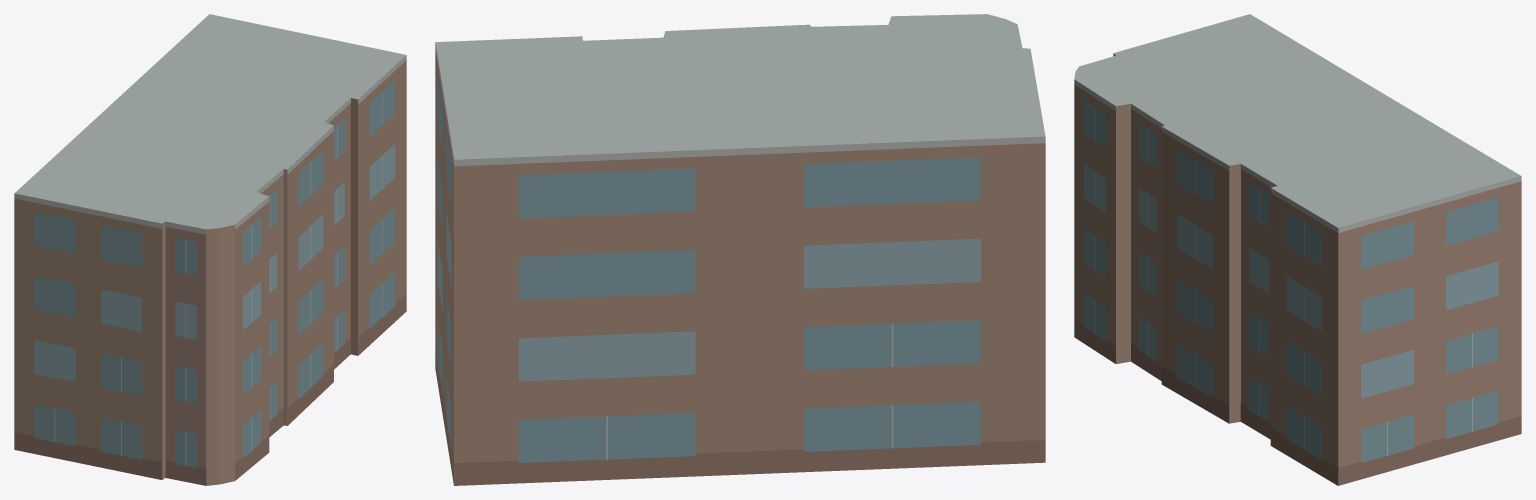
Rendered from survey-upis-33020227.glb.
3 renders of one model, left to right at view 1: azimuth 30°, elevation 25°; view 2: azimuth 150°, elevation 25°; view 3: azimuth 270°, elevation 25°, orthographic. The views are drawn at different scales.
Parts seen in each view (by area): view 1: survey-upis-33020227.tmp; view 2: survey-upis-33020227.tmp; view 3: survey-upis-33020227.tmp.
Part boxes in pixels (bbox=[...]): survey-upis-33020227.tmp: bbox=[14, 14, 406, 485]; survey-upis-33020227.tmp: bbox=[435, 14, 1045, 485]; survey-upis-33020227.tmp: bbox=[1074, 14, 1521, 485].
Bounding box in the file's own units: 21.54 × 12.1 × 19.02.
